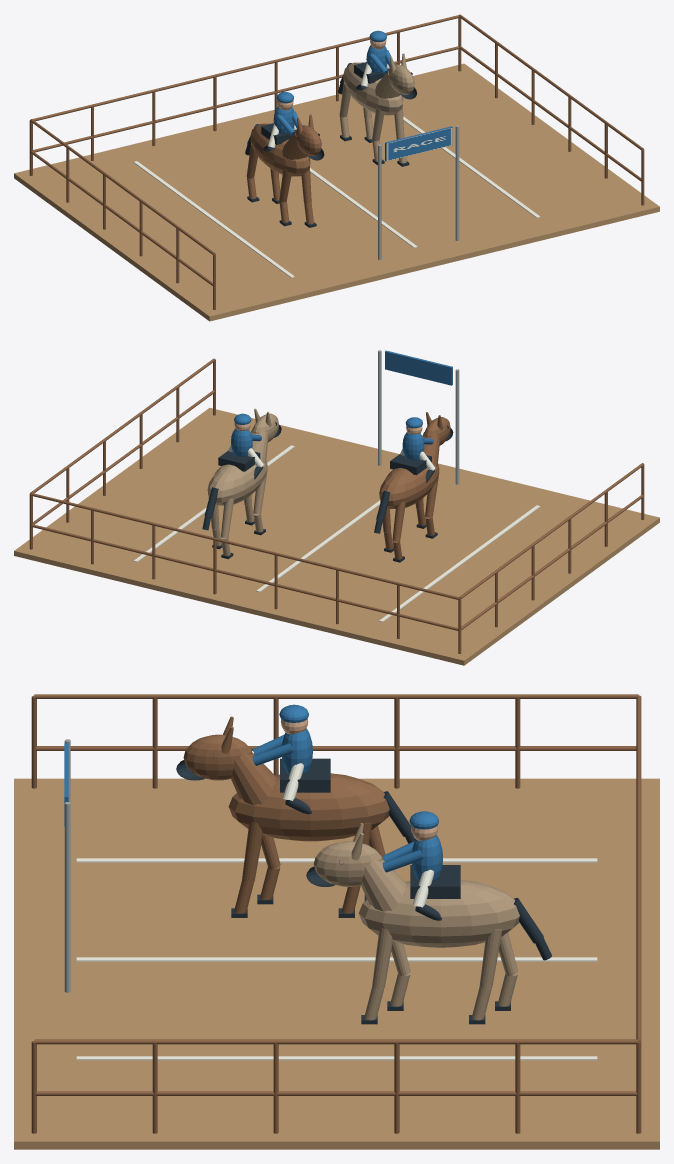
Rendered from scendance-plan-horse-racing.glb.
3 views of the same model, one above another, from view 1: azimuth 30°, elevation 25°; view 2: azimuth 150°, elevation 25°; view 3: azimuth 270°, elevation 25° (orthographic). The views are drawn at different scales.
Size of the model in its own units: 9.5 by 2.56 by 7.15.
9 materials, 1 textured.
